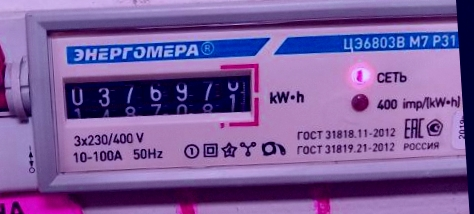0: (68, 83, 83, 105)
1: (226, 91, 238, 111)
3: (96, 85, 111, 107)
6: (147, 78, 163, 101)
7: (121, 80, 137, 105), (199, 77, 215, 101)
9: (173, 78, 188, 101)
screen: (53, 51, 266, 140)
